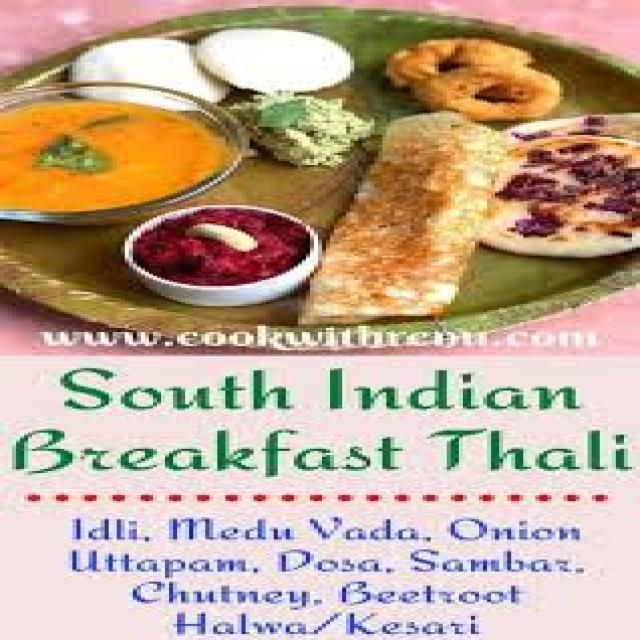dal: (8, 100, 236, 217)
dosa: (317, 111, 540, 316)
idly: (65, 22, 362, 106)
sambar-rasam: (2, 98, 239, 216)
sweet: (128, 207, 302, 287)
vada: (387, 38, 570, 124)
